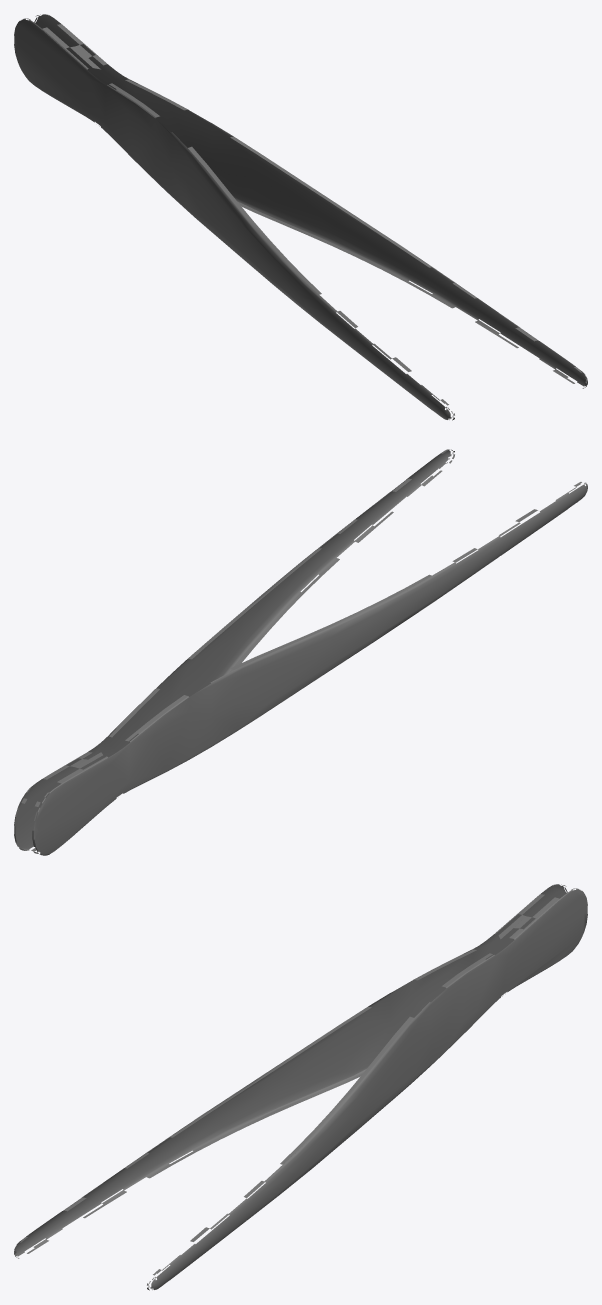
The model's file is tweezers.fbx.
3 renders of one model, top to bottom at view 1: azimuth 30°, elevation 25°; view 2: azimuth 150°, elevation 25°; view 3: azimuth 330°, elevation 25°, orthographic.
Parts seen in each view (by area): view 1: tweezers; view 2: tweezers; view 3: tweezers.
Boxes of the visible parts, x1,y1,x2,y2 form: tweezers: (14,14,587,420); tweezers: (14,449,587,855); tweezers: (14,884,587,1290).
Size of the model in its own units: 2.51 by 1.11 by 15.24.
Materials: 1 (1 with a texture image).
